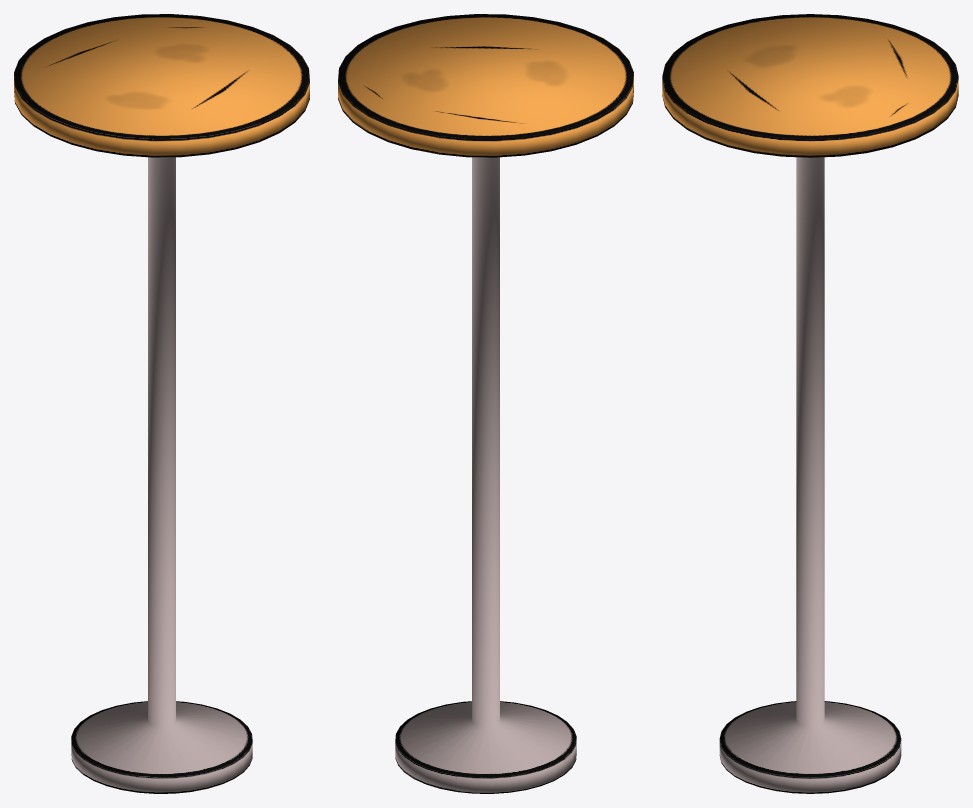
The model's file is footstool_v2.glb.
3 views of the same model, side by side, from view 1: azimuth 30°, elevation 25°; view 2: azimuth 150°, elevation 25°; view 3: azimuth 270°, elevation 25° (orthographic).
Parts seen in each view (by area): view 1: footstool; view 2: footstool; view 3: footstool.
Part boxes in pixels (<box>): footstool: <box>14,14,309,793</box>; footstool: <box>338,14,633,793</box>; footstool: <box>662,14,958,793</box>.
Bounding box in the file's own units: 2 × 5.05 × 2.
Materials: 1 (1 with a texture image).
